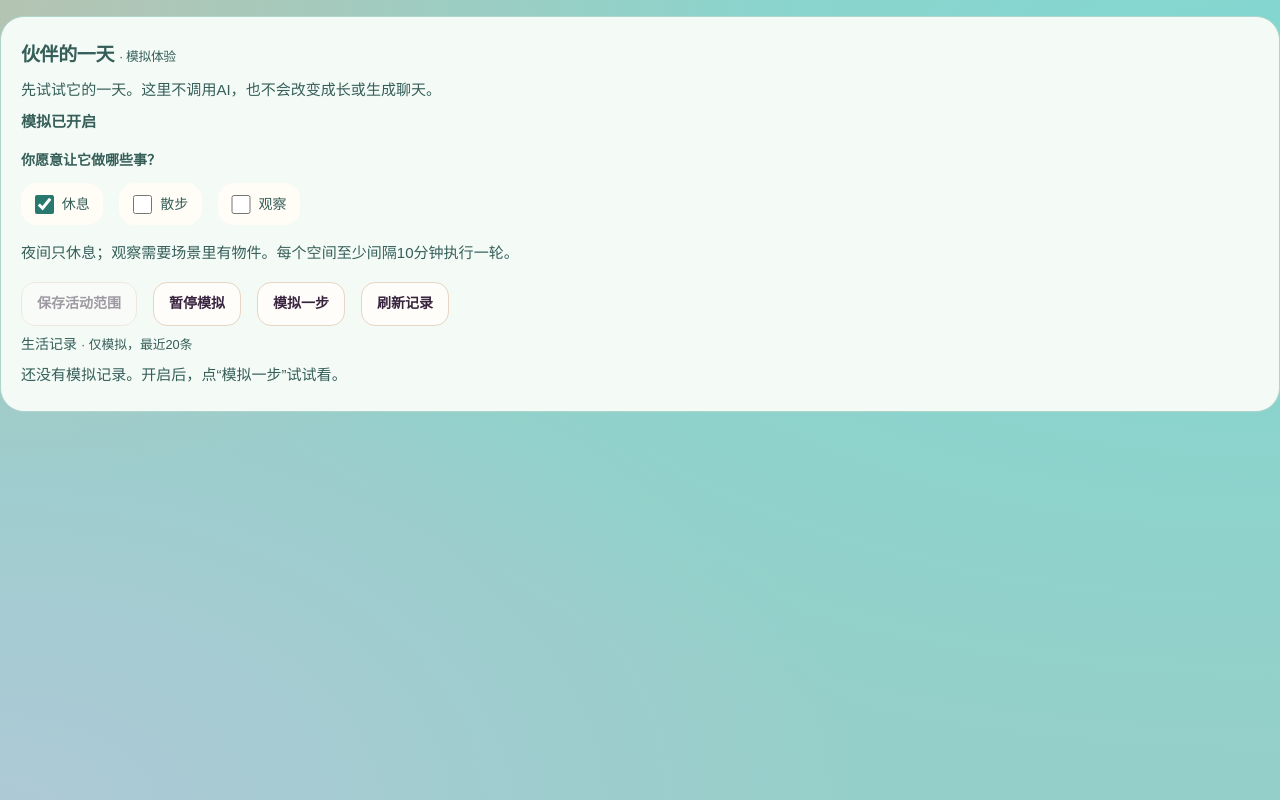
reconciles failed writes with one read and does not submit the action twice
Check: the text "模拟已开启" is shown, box [21,112,96,130]
Click the button "模拟一步" at (301, 304), box [257,282,345,326]
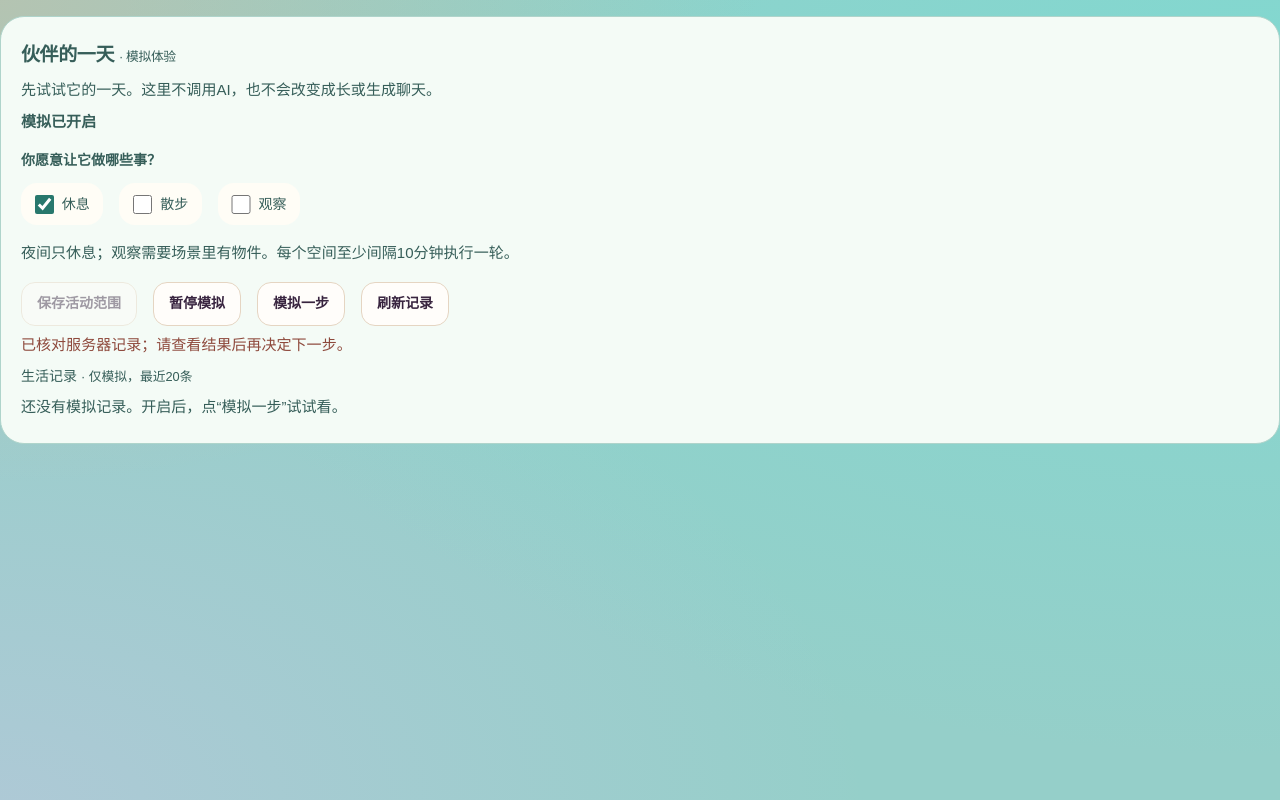
Check: the text "已核对服务器记录；请查看结果后再决定下一步。" is shown, box [21,336,352,353]
